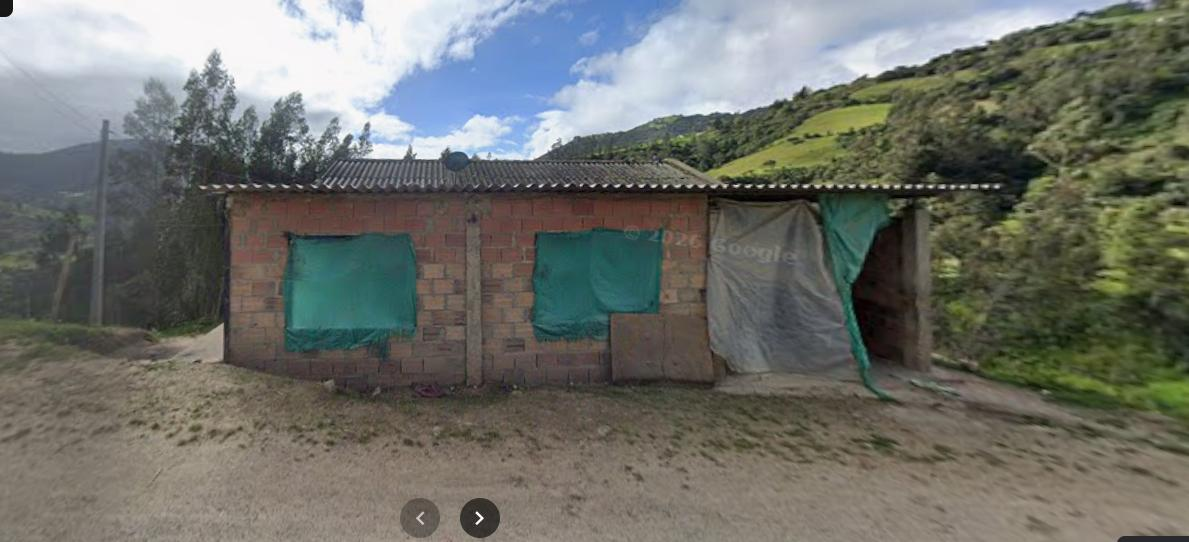casa: (202, 153, 1000, 401)
